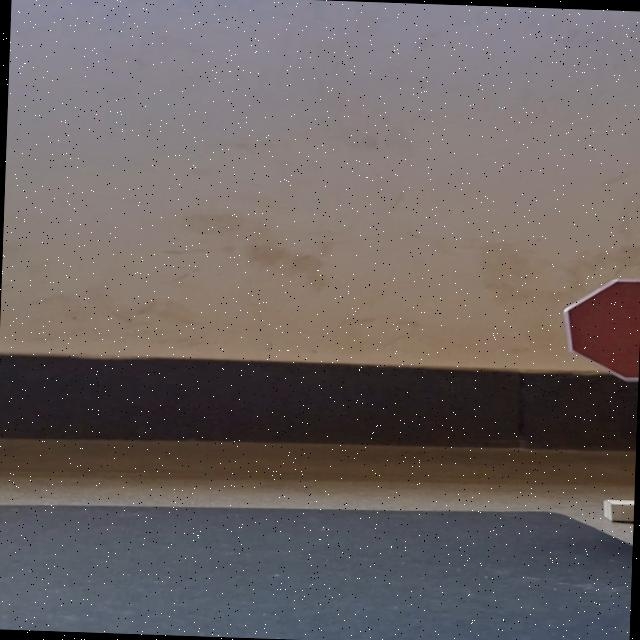Stop: (551, 272, 640, 382)
